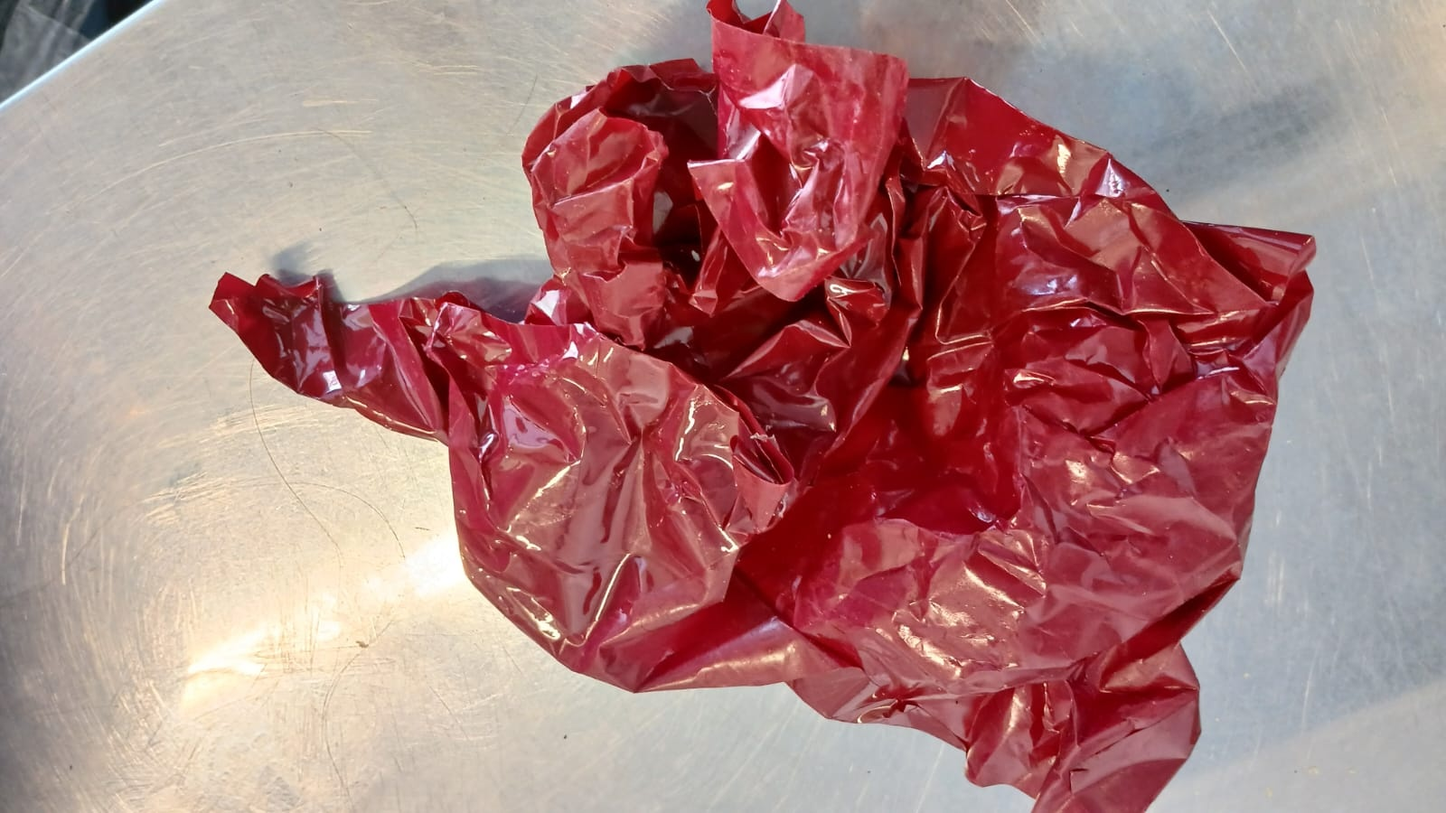Ordinario: (207, 0, 1317, 813)
